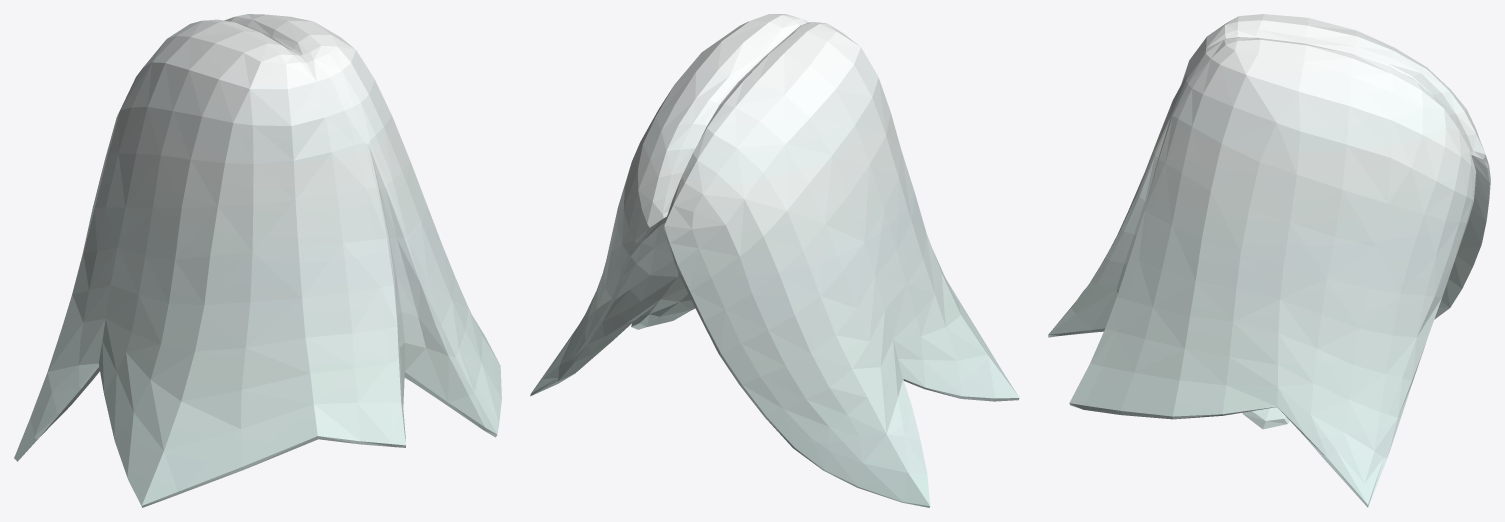
Rendered from CharSkyKid_Hair_LongBob.glb.
3 renders of one model, left to right at view 1: azimuth 30°, elevation 25°; view 2: azimuth 150°, elevation 25°; view 3: azimuth 270°, elevation 25°, orthographic. The views are drawn at different scales.
Visible parts, largest first — view 1: CharSkyKid_Hair_LongBob; view 2: CharSkyKid_Hair_LongBob; view 3: CharSkyKid_Hair_LongBob.
Boxes of the visible parts, x1=… form: CharSkyKid_Hair_LongBob: x1=14, y1=14, x2=501, y2=507; CharSkyKid_Hair_LongBob: x1=530, y1=14, x2=1019, y2=507; CharSkyKid_Hair_LongBob: x1=1048, y1=14, x2=1490, y2=507.
Bounding box in the file's own units: 4.67 × 4.32 × 4.45.
Materials: 1 (1 with a texture image).
